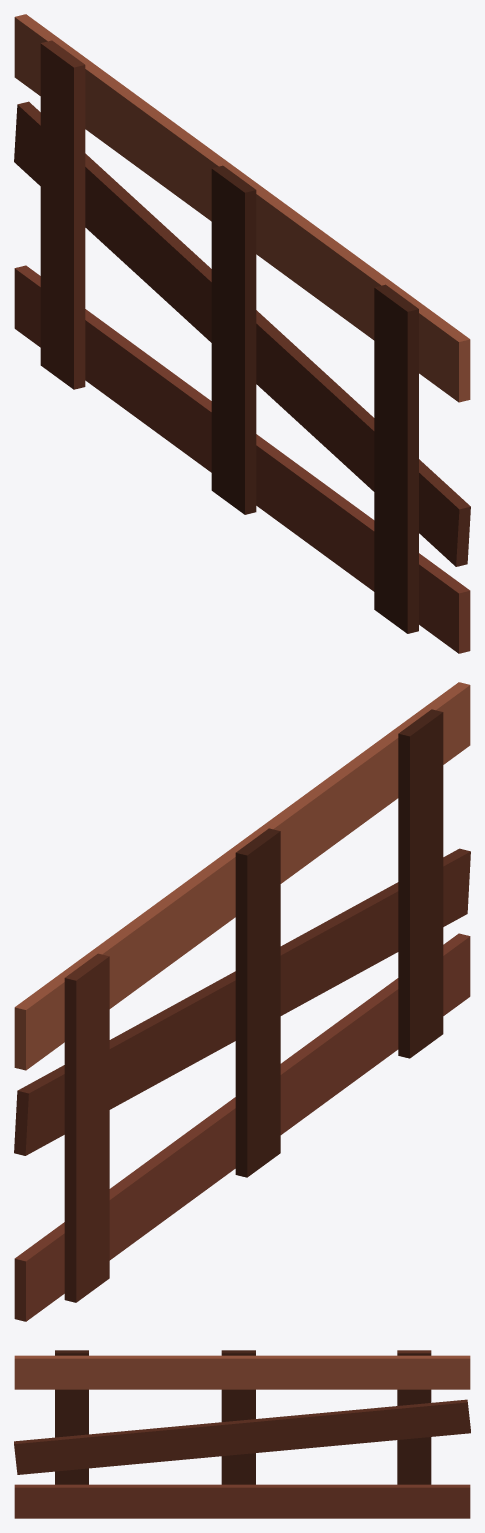
The model's file is SM_Barriers_09.fbx.
The picture shows the model from 3 angles, top to bottom: view 1: azimuth 30°, elevation 25°; view 2: azimuth 150°, elevation 25°; view 3: azimuth 270°, elevation 25°; orthographic projection. The views are drawn at different scales.
Parts seen in each view (by area): view 1: SM_Barriers_09; view 2: SM_Barriers_09; view 3: SM_Barriers_09.
Boxes of the visible parts, <box> form: SM_Barriers_09: <box>14,14,470,653</box>; SM_Barriers_09: <box>14,682,470,1321</box>; SM_Barriers_09: <box>14,1350,470,1518</box>.
Bounding box in the file's own units: 6.13 × 80 × 200.
